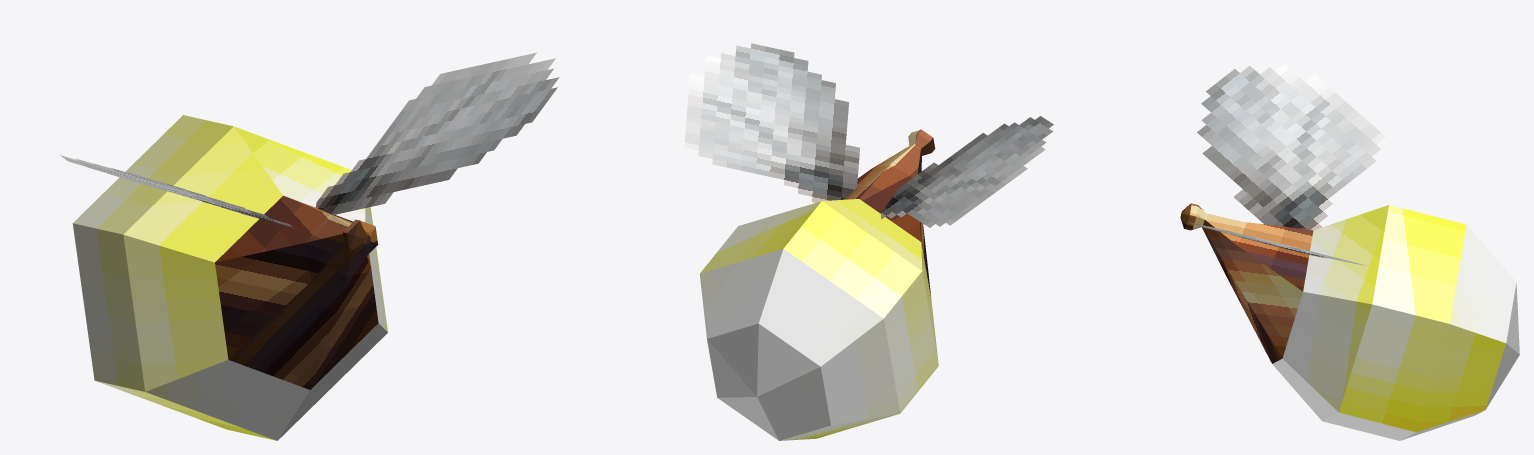
Rendered from kapre_firefly.fbx.
The picture shows the model from 3 angles, left to right: view 1: azimuth 30°, elevation 25°; view 2: azimuth 150°, elevation 25°; view 3: azimuth 270°, elevation 25°; orthographic projection. The views are drawn at different scales.
Parts seen in each view (by area): view 1: firefly; view 2: firefly; view 3: firefly.
Boxes of the visible parts, box(x1,y1,x2,y2) form: firefly: box(60, 52, 559, 440); firefly: box(684, 43, 1053, 440); firefly: box(1180, 64, 1519, 440).
Size of the model in its own units: 20.11 by 13.66 by 15.47.
2 materials, 2 textured.
